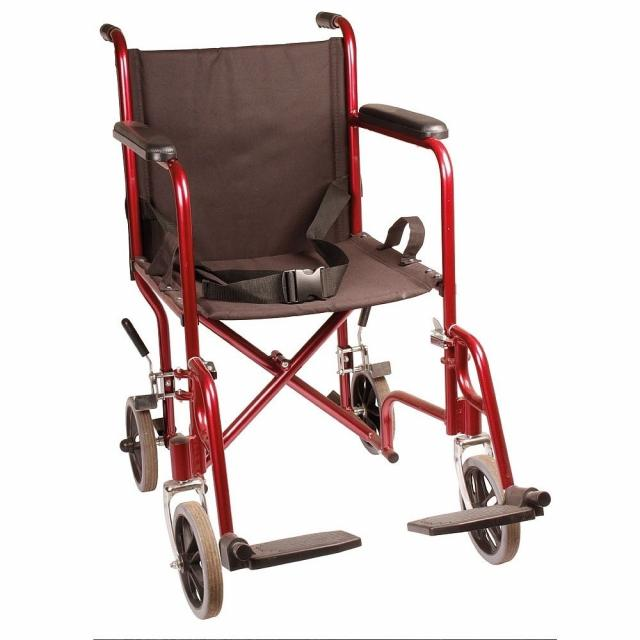wheelchair: (84, 0, 590, 625)
